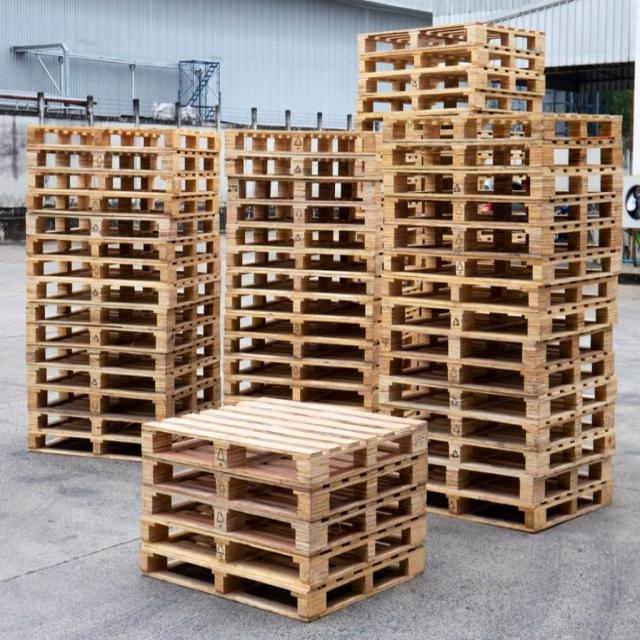Palette: (378, 113, 633, 536), (17, 118, 226, 479), (139, 386, 433, 630), (220, 116, 386, 458), (351, 18, 552, 122)
